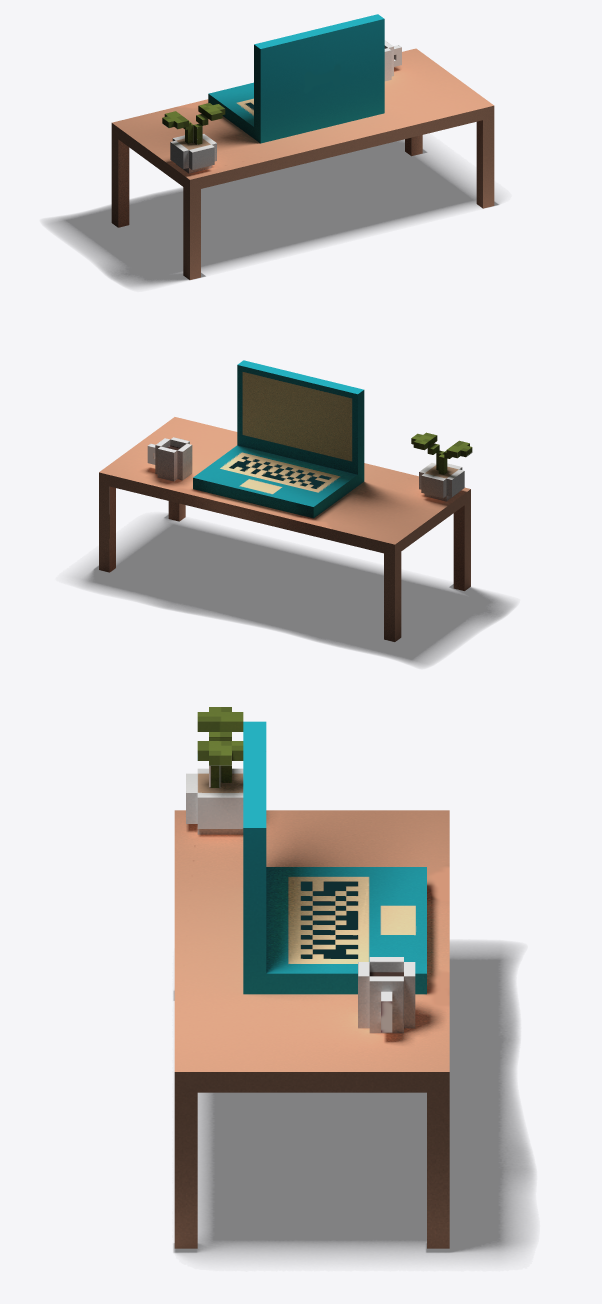
File: desk.glb
3 renders of one model, top to bottom at view 1: azimuth 30°, elevation 25°; view 2: azimuth 150°, elevation 25°; view 3: azimuth 270°, elevation 25°, orthographic. The views are drawn at different scales.
Parts seen in each view (by area): view 1: main, Plane; view 2: main, Plane; view 3: main, Plane.
Boxes of the visible parts, x1,y1,x2,y2 form: main: (111,14,494,279); Plane: (45,139,499,287); main: (99,360,472,641); Plane: (75,514,513,666); main: (174,707,449,1248); Plane: (173,942,533,1258).
Size of the model in its own units: 7.58 by 3.3 by 5.01.
2 materials, 2 textured.
